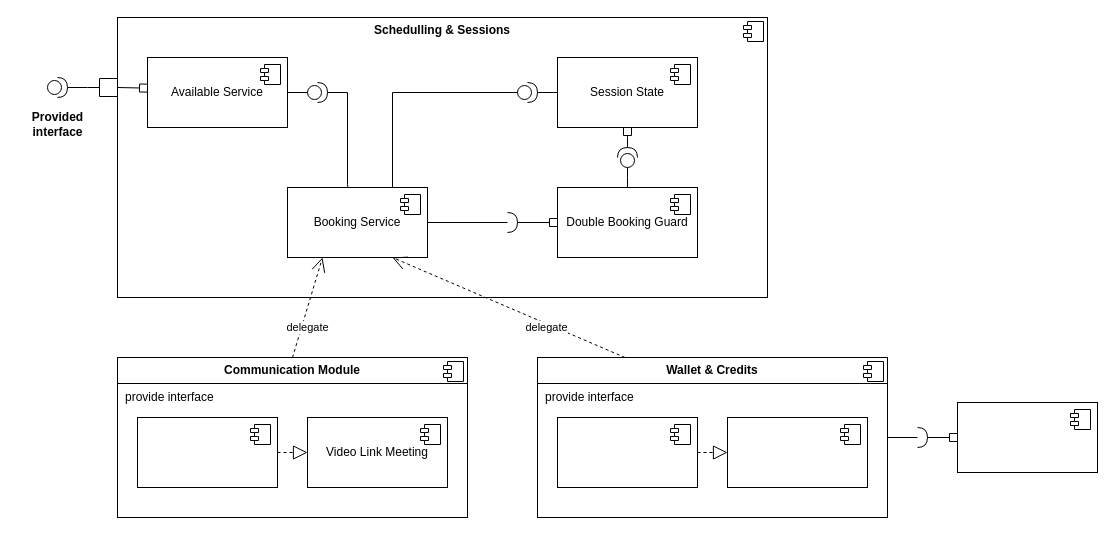
Some shapes in this 1115 by 535 pixel diagram are drawn without their labels. Each missing label, with the centre of its shape:
Account: the point at 1027,437
Escrow Service: the point at 627,452
Ledger Service: the point at 797,452
Pre-booking Chat: the point at 207,452
